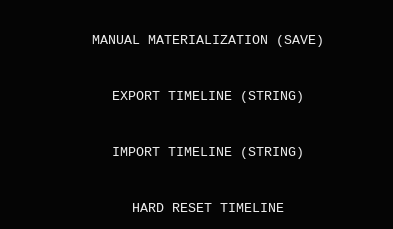
Test: SystemMenu.vue › shows import console when import is clicked
Click the button "IMPORT TIMELINE (STRING)". click: [208, 152]
box: x1=40 y1=128 x2=376 y2=176
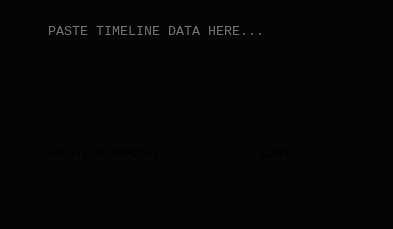
Expected: the text box with placeholder "PASTE TIMELINE DATA HERE..." is shown, x1=40 y1=16 x2=376 y2=116
